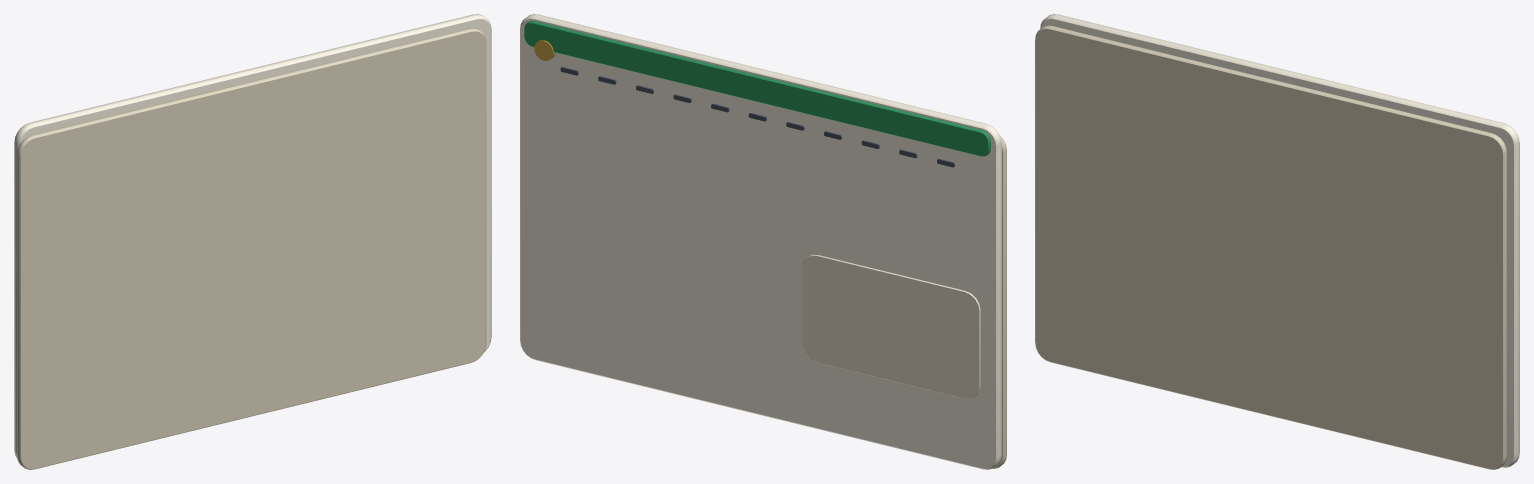
File: Doc_ReceiptCard.fbx
3 views of the same model, side by side, from view 1: azimuth 30°, elevation 25°; view 2: azimuth 150°, elevation 25°; view 3: azimuth 330°, elevation 25° (orthographic).
Visible parts, largest first — view 1: Receipt_PaperEdge, Receipt_Paper; view 2: Receipt_Paper, Receipt_PaperTint, ModeStrip, Receipt_PaperEdge, Receipt_InkSoft; view 3: Receipt_PaperEdge, Receipt_Paper.
Boxes of the visible parts, <box> form: Receipt_PaperEdge: <box>17,28,486,469</box>; Receipt_Paper: <box>14,14,491,458</box>; Receipt_Paper: <box>520,14,1001,469</box>; Receipt_PaperTint: <box>802,254,980,398</box>; ModeStrip: <box>524,21,990,156</box>; Receipt_PaperEdge: <box>992,136,1006,468</box>; Receipt_InkSoft: <box>560,67,954,167</box>; Receipt_PaperEdge: <box>1035,25,1506,469</box>; Receipt_Paper: <box>1040,14,1519,467</box>.
Bounding box in the file's own units: 14.05 × 9.65 × 0.54.
